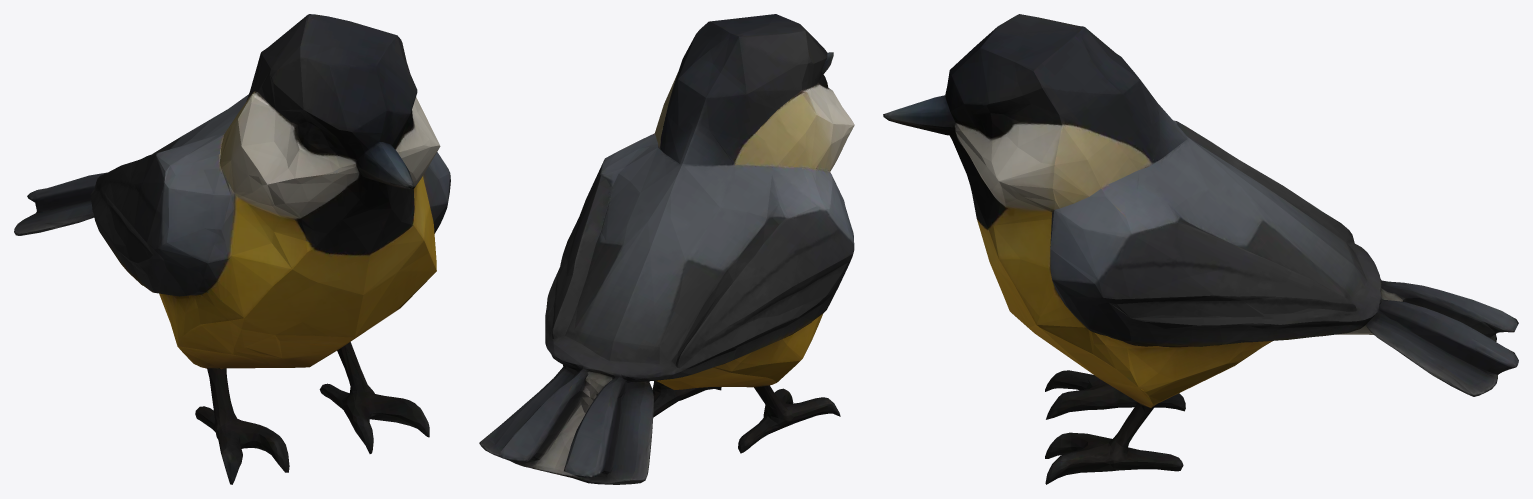
Rendered from songbird.glb.
3 views of the same model, side by side, from view 1: azimuth 30°, elevation 25°; view 2: azimuth 150°, elevation 25°; view 3: azimuth 270°, elevation 25° (orthographic). The views are drawn at different scales.
Parts seen in each view (by area): view 1: world; view 2: world; view 3: world.
Part boxes in pixels (<box>): world: <box>14,14,450,484</box>; world: <box>479,14,854,484</box>; world: <box>883,14,1518,484</box>.
Bounding box in the file's own units: 0.5062 × 0.7129 × 0.9934.
Materials: 1 (1 with a texture image).
